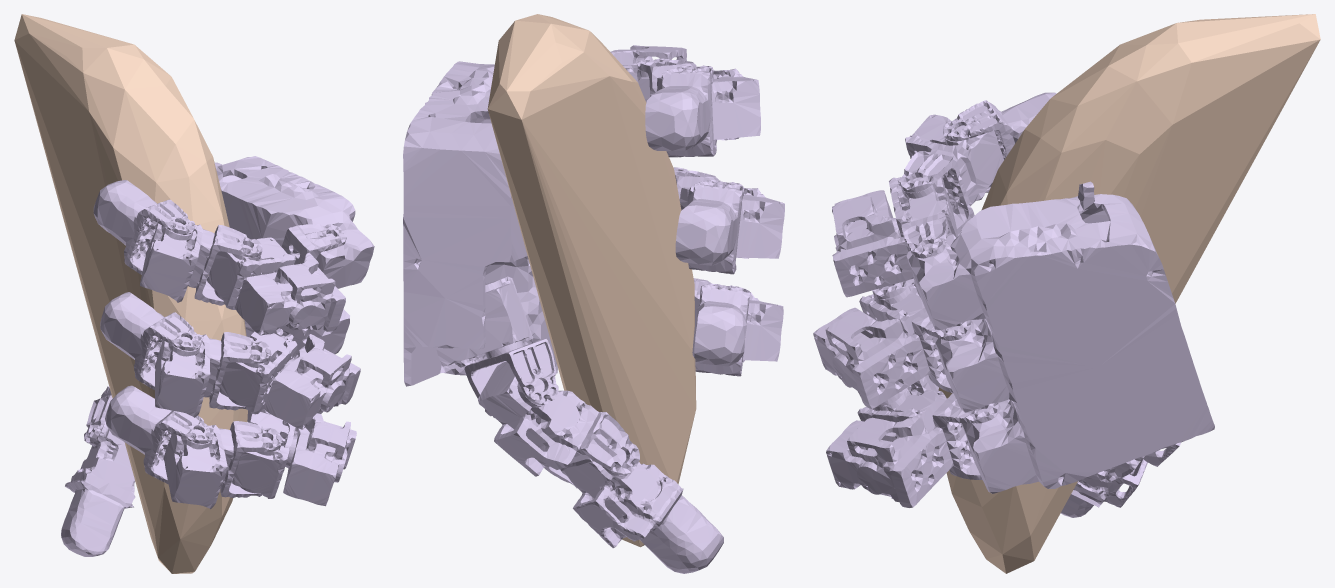
3 renders of one model, left to right at view 1: azimuth 30°, elevation 25°; view 2: azimuth 150°, elevation 25°; view 3: azimuth 270°, elevation 25°, orthographic. The views are drawn at different scales.
Parts seen in each view (by area): view 1: LEAP_hand, world; view 2: LEAP_hand, world; view 3: LEAP_hand, world.
Part boxes in pixels (x1,y1,x2,y2): LEAP_hand: (61, 156, 374, 556); world: (14, 14, 247, 573); LEAP_hand: (403, 45, 784, 573); world: (487, 14, 696, 547); LEAP_hand: (813, 92, 1214, 517); world: (938, 14, 1320, 573).
Bounding box in the file's own units: 0.1441 × 0.2635 × 0.2225.
